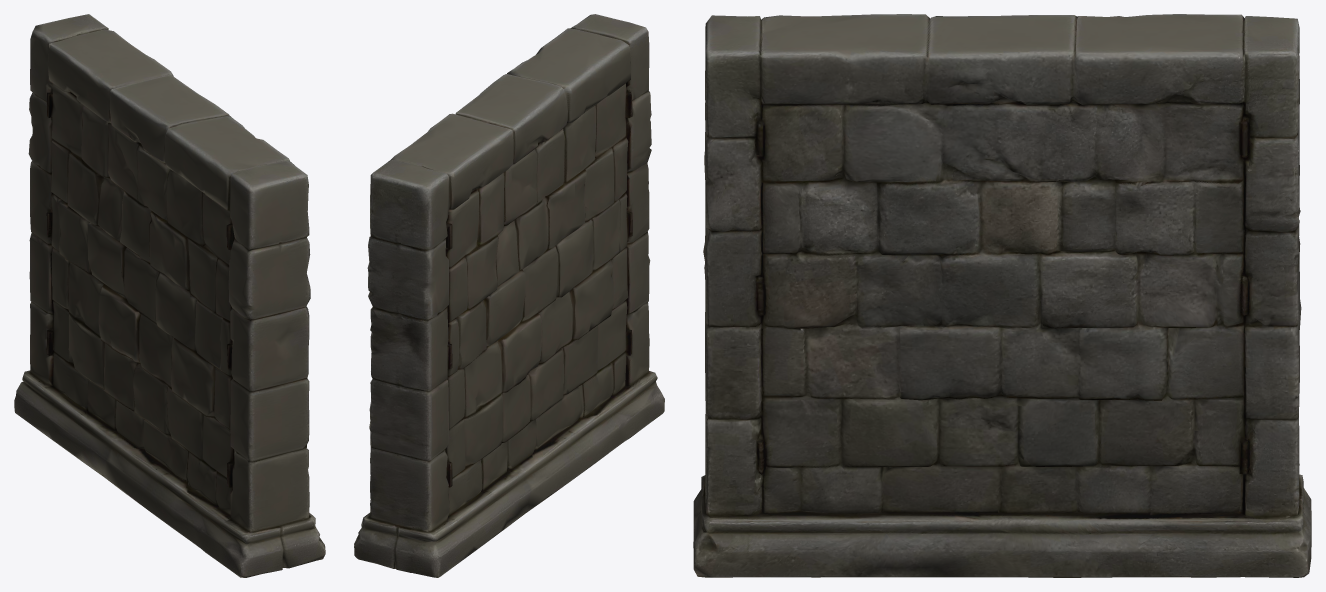
File: false-wall-panel.glb
The picture shows the model from 3 angles, left to right: view 1: azimuth 30°, elevation 25°; view 2: azimuth 150°, elevation 25°; view 3: azimuth 270°, elevation 25°; orthographic projection. The views are drawn at different scales.
Parts seen in each view (by area): view 1: tripo_node_66ee2317-e201-4fa9-ac54-bca943a09b45; view 2: tripo_node_66ee2317-e201-4fa9-ac54-bca943a09b45; view 3: tripo_node_66ee2317-e201-4fa9-ac54-bca943a09b45.
Part boxes in pixels (bbox=[...]): tripo_node_66ee2317-e201-4fa9-ac54-bca943a09b45: bbox=[14, 14, 325, 577]; tripo_node_66ee2317-e201-4fa9-ac54-bca943a09b45: bbox=[354, 14, 664, 577]; tripo_node_66ee2317-e201-4fa9-ac54-bca943a09b45: bbox=[693, 14, 1311, 577].
Bounding box in the file's own units: 0.2144 × 0.9275 × 1.
1 material, 1 textured.
